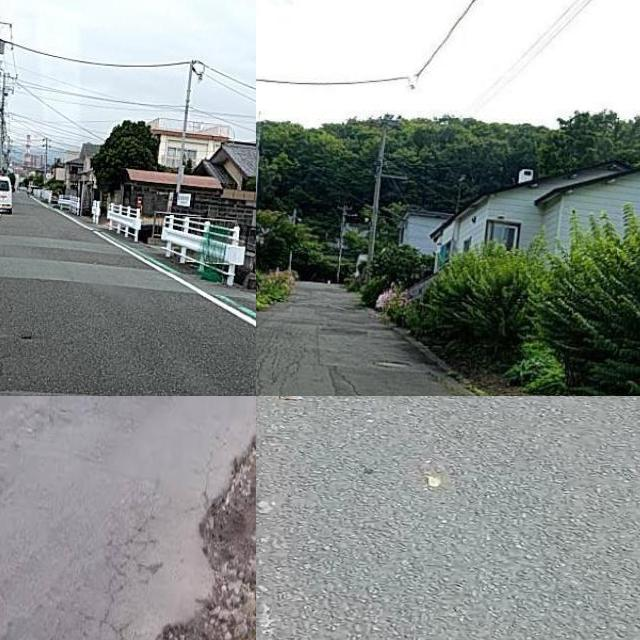Pinggir: (140, 405, 256, 640)
Sambungan: (327, 369, 451, 396)
